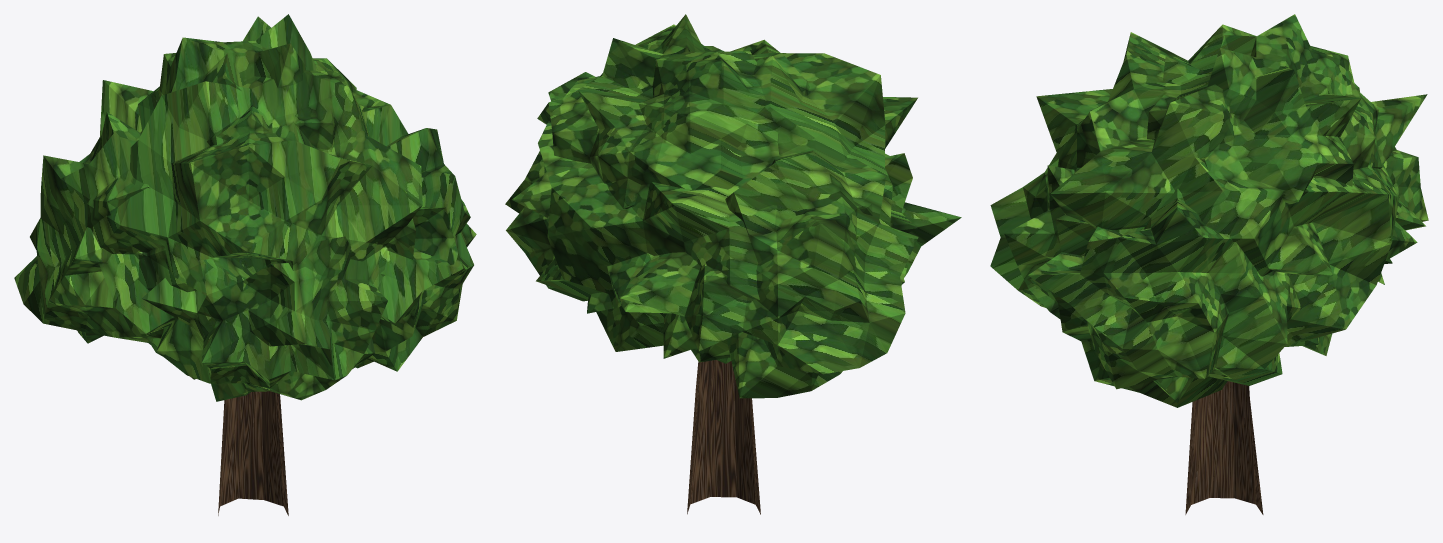
File: tree.glb
The picture shows the model from 3 angles, left to right: view 1: azimuth 30°, elevation 25°; view 2: azimuth 150°, elevation 25°; view 3: azimuth 270°, elevation 25°; orthographic projection. The views are drawn at different scales.
Visible parts, largest first — view 1: canopy, trunk; view 2: canopy, trunk; view 3: canopy, trunk.
Part boxes in pixels (x1,y1,x2,y2): canopy: (14,14,476,401); trunk: (218,391,288,515); canopy: (505,14,961,398); trunk: (687,360,760,514); canopy: (990,14,1428,407); trunk: (1185,381,1263,514).
Size of the model in its own units: 4.33 by 4.73 by 3.89.
2 materials, 2 textured.
